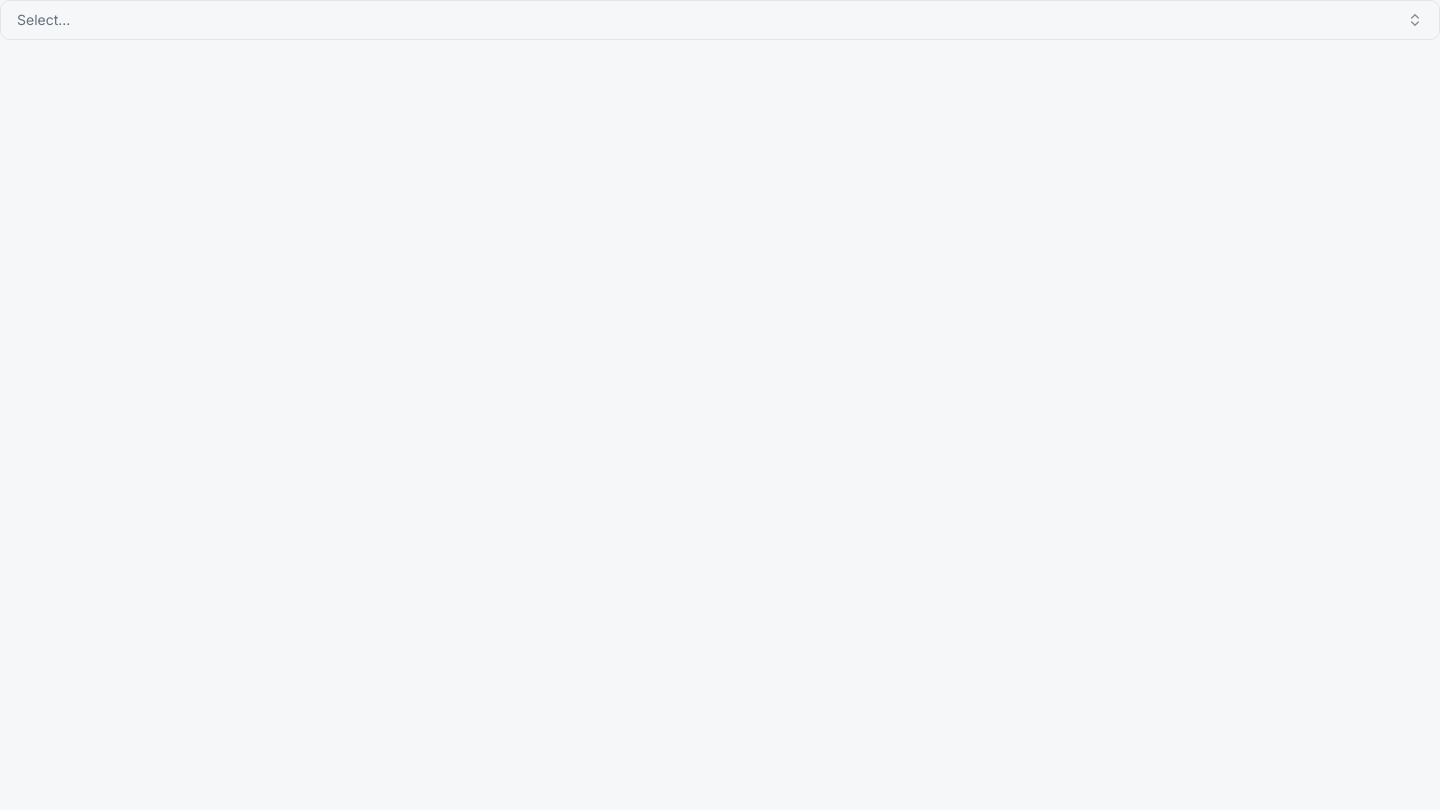
Test case: Combobox in server-search mode › will not let the desk pick from the previous page while a search runs
The width and height of the screenshot is (1440, 810).
Click the dropdown at (44, 20), box [0,0,1439,40]
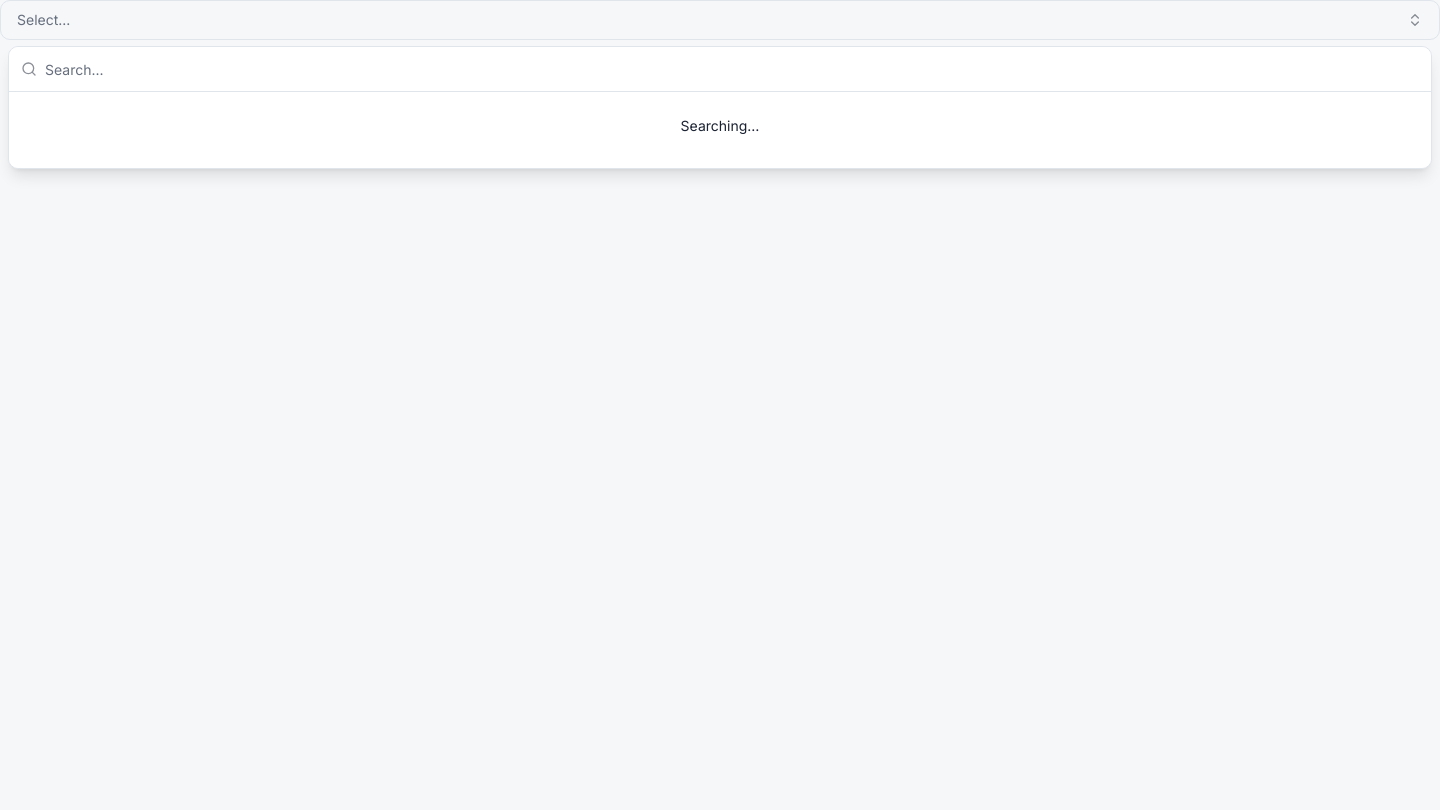
Now the text "Searching…" is shown, box [681,117,759,134]
